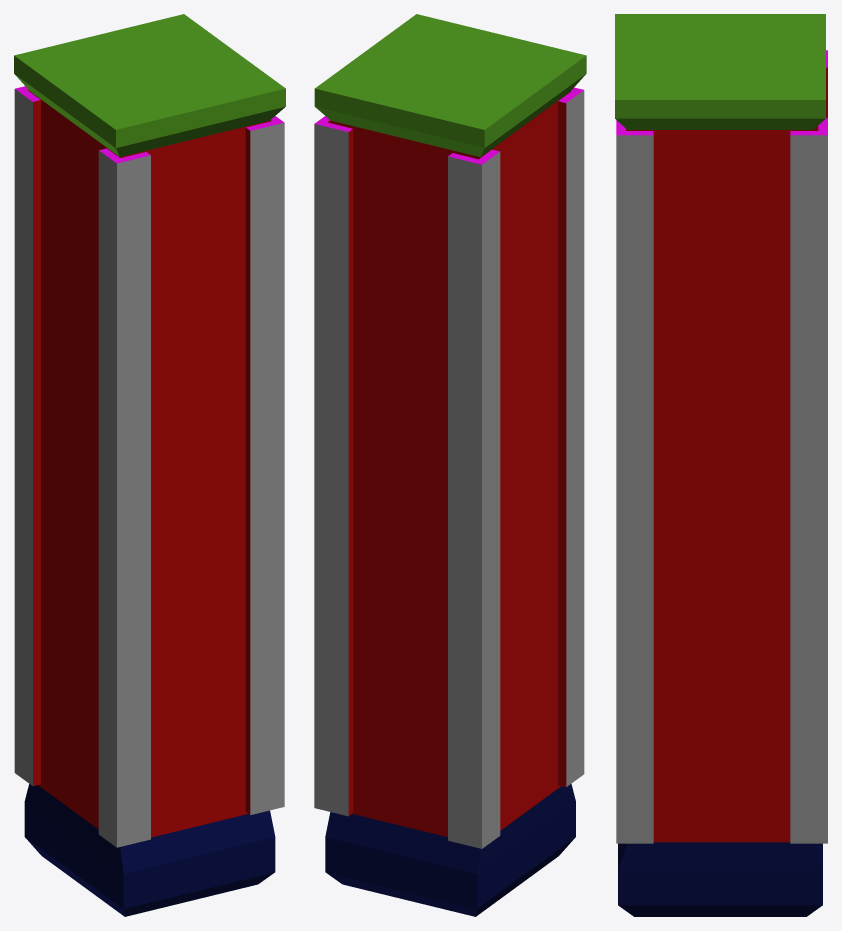
File: Columna_Maestra_TiendasZ3.FBX
The picture shows the model from 3 angles, left to right: view 1: azimuth 30°, elevation 25°; view 2: azimuth 150°, elevation 25°; view 3: azimuth 270°, elevation 25°; orthographic projection. The views are drawn at different scales.
Parts seen in each view (by area): view 1: Columna_Maestra_TiendasZ; view 2: Columna_Maestra_TiendasZ; view 3: Columna_Maestra_TiendasZ.
Boxes of the visible parts, <box> form: Columna_Maestra_TiendasZ: <box>14,14,285,916</box>; Columna_Maestra_TiendasZ: <box>314,14,586,916</box>; Columna_Maestra_TiendasZ: <box>615,14,827,916</box>.
Size of the model in its own units: 3.35 by 15.04 by 3.51.
